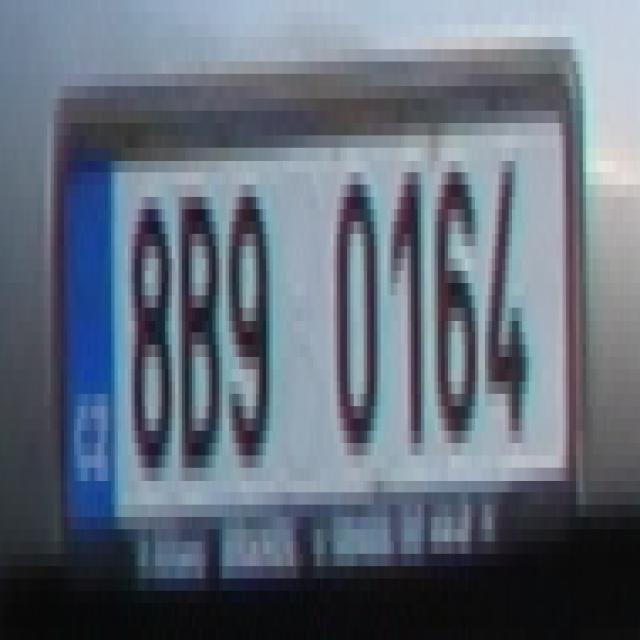0: (334, 160, 381, 443)
1: (384, 160, 424, 443)
4: (482, 135, 526, 431)
6: (431, 160, 478, 443)
8: (124, 184, 168, 480)
9: (226, 172, 270, 456)
B: (178, 197, 222, 468)
